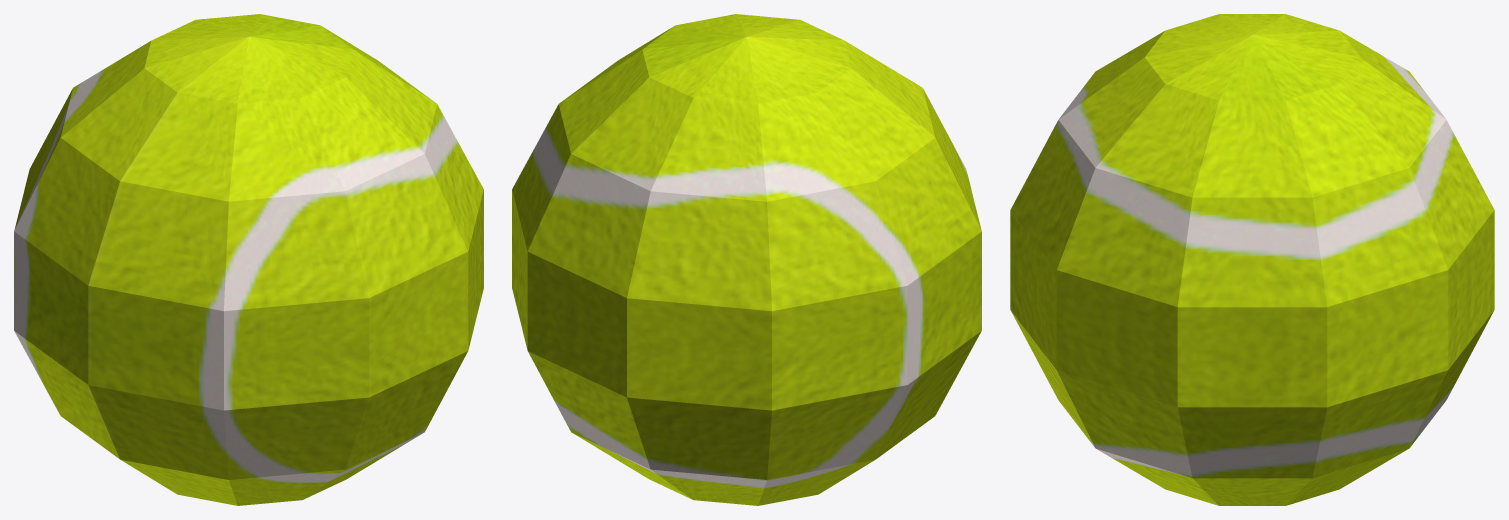
Rendered from tennisball.glb.
3 renders of one model, left to right at view 1: azimuth 30°, elevation 25°; view 2: azimuth 150°, elevation 25°; view 3: azimuth 270°, elevation 25°, orthographic.
Parts seen in each view (by area): view 1: Sphere; view 2: Sphere; view 3: Sphere.
Boxes of the visible parts, x1,y1,x2,y2 form: Sphere: (14,14,483,505); Sphere: (512,14,981,505); Sphere: (1010,14,1494,505).
Size of the model in its own units: 1.85 by 2 by 1.95.
Materials: 1 (1 with a texture image).
